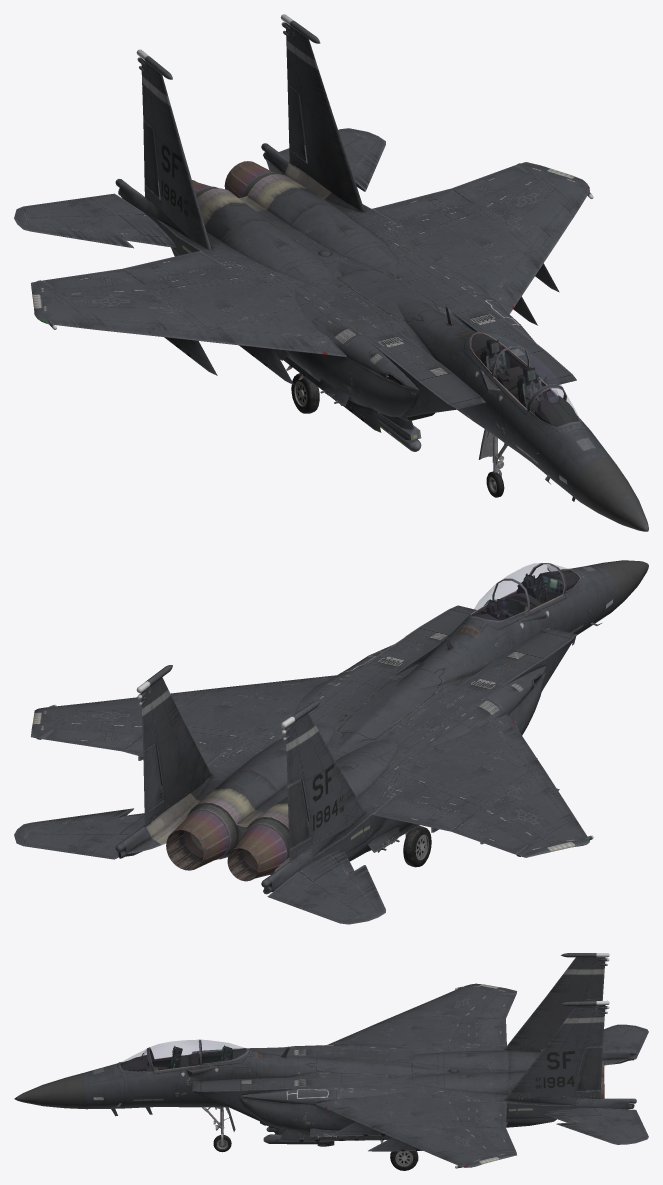
File: ba_f-15ex_eagle_ii.glb
3 views of the same model, one above another, from view 1: azimuth 30°, elevation 25°; view 2: azimuth 150°, elevation 25°; view 3: azimuth 270°, elevation 25° (orthographic). The views are drawn at different scales.
Visible parts, largest first — view 1: F_15EX_0, open_1; view 2: F_15EX_0, open_1; view 3: F_15EX_0, open_1, SniperXR_2.
Boxes of the visible parts, left/top/right/bottom form: F_15EX_0: left=14, top=14, right=648, bottom=531; open_1: left=291, top=373, right=507, bottom=497; F_15EX_0: left=14, top=560, right=648, bottom=924; open_1: left=403, top=826, right=431, bottom=867; F_15EX_0: left=14, top=953, right=648, bottom=1168; open_1: left=202, top=1107, right=418, bottom=1170; SniperXR_2: left=263, top=1133, right=334, bottom=1146.
Size of the model in its own units: 0.1322 by 0.059 by 0.1944.
Materials: 3 (3 with a texture image).
